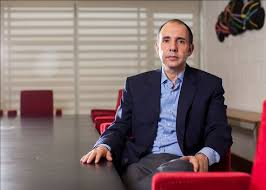person: (155, 19, 196, 71)
